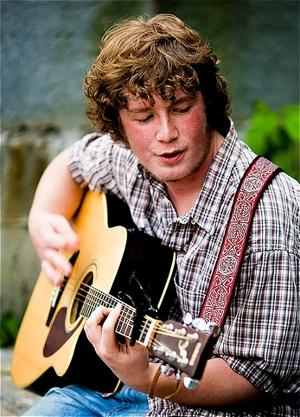person: (21, 13, 300, 417)
